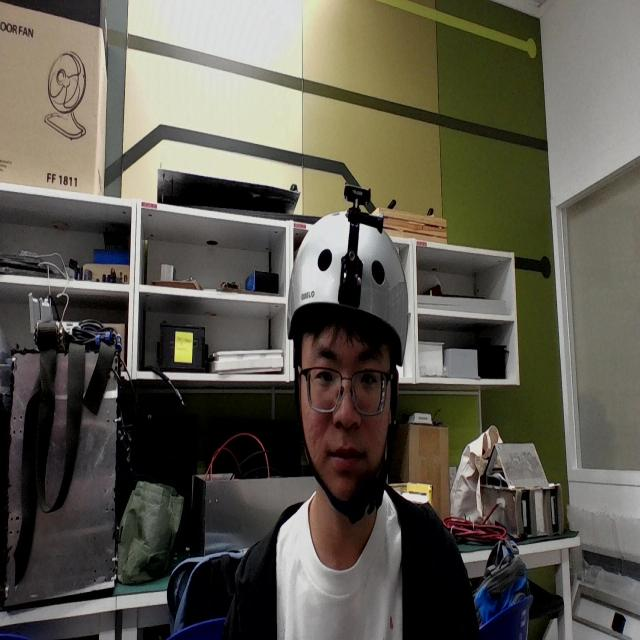With Helmet: (268, 159, 427, 544)
